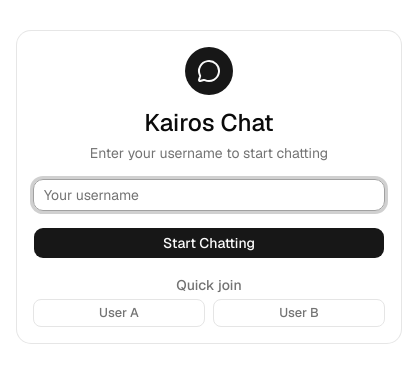
Test: LoginForm › shows error when username is too short
Type "A" into the field with test id "username-input" at (209, 195), box [33,179,385,211]
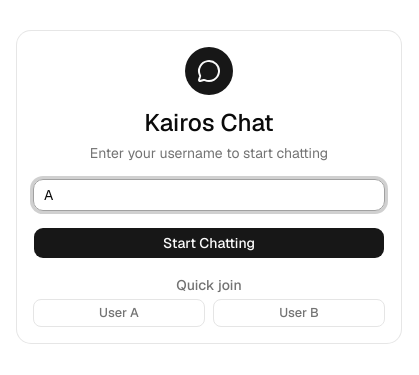
Click the button with test id "login-submit" at (209, 243), box [33,227,385,259]
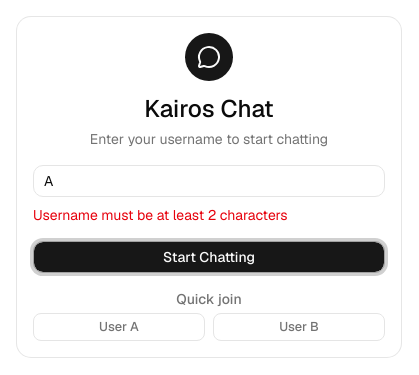
Expected: the text "Username must be at least 2 characters" is shown, [33,206,288,224]
